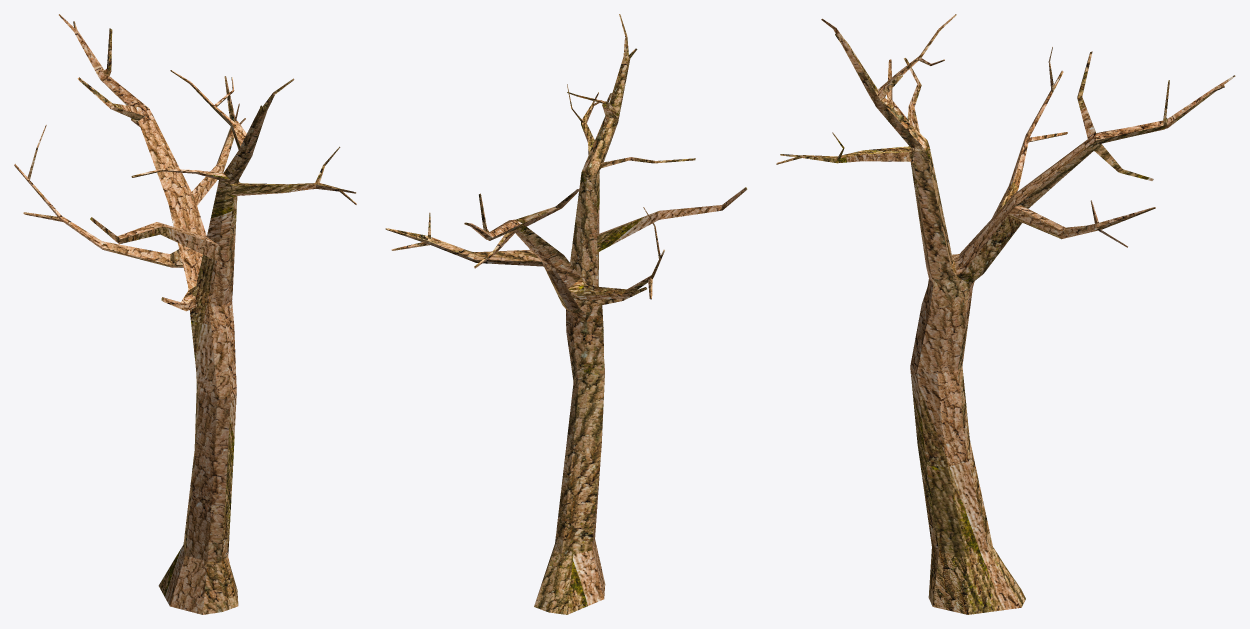
File: tree trunk.fbx
The picture shows the model from 3 angles, left to right: view 1: azimuth 30°, elevation 25°; view 2: azimuth 150°, elevation 25°; view 3: azimuth 270°, elevation 25°; orthographic projection. The views are drawn at different scales.
Visible parts, largest first — view 1: tree; view 2: tree; view 3: tree.
Part boxes in pixels (x1,y1,x2,y2): tree: (14,14,356,614); tree: (385,14,747,614); tree: (776,14,1235,614).
Size of the model in its own units: 457 by 922 by 649.
1 material, 1 textured.
